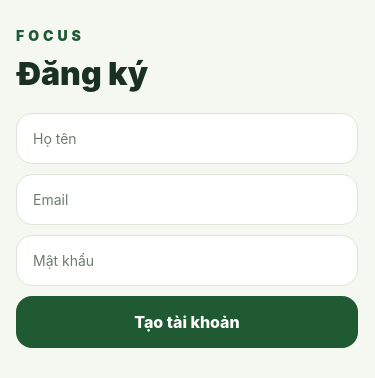
Scenario: RegisterScreen › rejects a password shorter than the contract minimum
The image size is (375, 378).
Type "Người dùng" into the field with test id "register-displayName" at (187, 138), box top-left (16, 112), bottom-right (358, 164)
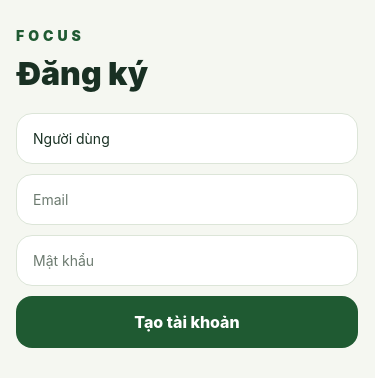
Type "user@example.com" into the field with test id "register-email" at (187, 199), box top-left (16, 174), bottom-right (358, 224)
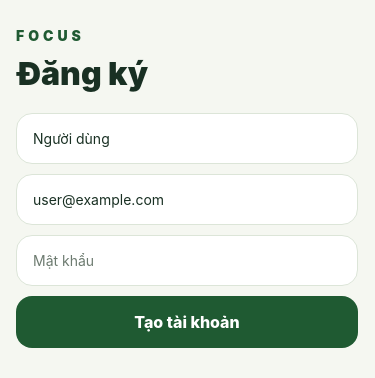
Type "short" into the password field with test id "register-password" at (187, 260), box top-left (16, 234), bottom-right (358, 286)
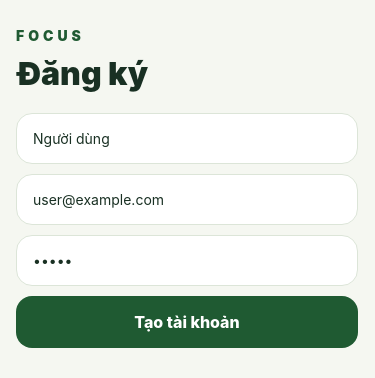
Click the element with test id "register-submit" at (187, 322), box top-left (16, 296), bottom-right (358, 348)
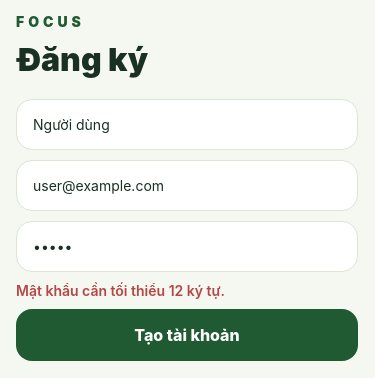
expect the text "Mật khẩu cần tối thiểu 12 ký tự." is shown: met, box top-left (16, 282), bottom-right (225, 299)
